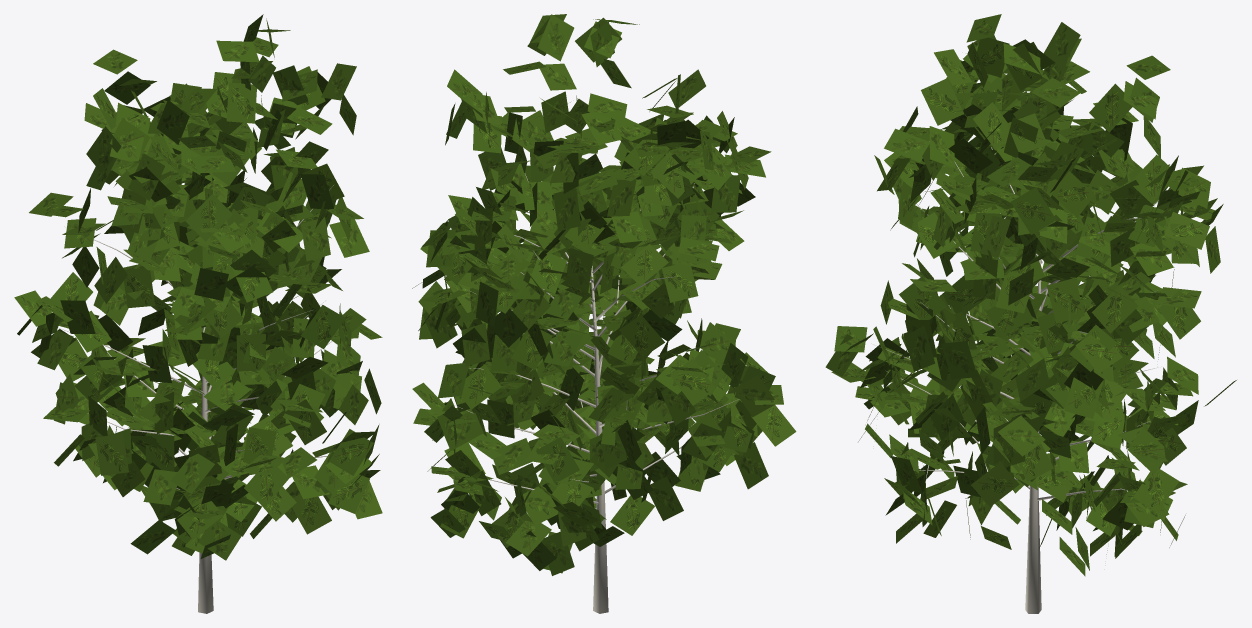
Rendered from near.glb.
3 views of the same model, side by side, from view 1: azimuth 30°, elevation 25°; view 2: azimuth 150°, elevation 25°; view 3: azimuth 270°, elevation 25° (orthographic). The views are drawn at different scales.
Parts seen in each view (by area): view 1: foliage, bark; view 2: foliage, bark; view 3: foliage, bark.
Part boxes in pixels (left/top/right/bottom): foliage: left=14, top=14, right=382, bottom=560; bark: left=58, top=182, right=333, bottom=613; foliage: left=412, top=14, right=796, bottom=575; bark: left=449, top=173, right=739, bottom=613; foliage: left=825, top=14, right=1236, bottom=576; bark: left=875, top=147, right=1170, bottom=613.
Size of the model in its own units: 16.35 by 26.51 by 16.54.
Materials: 2 (1 with a texture image).
